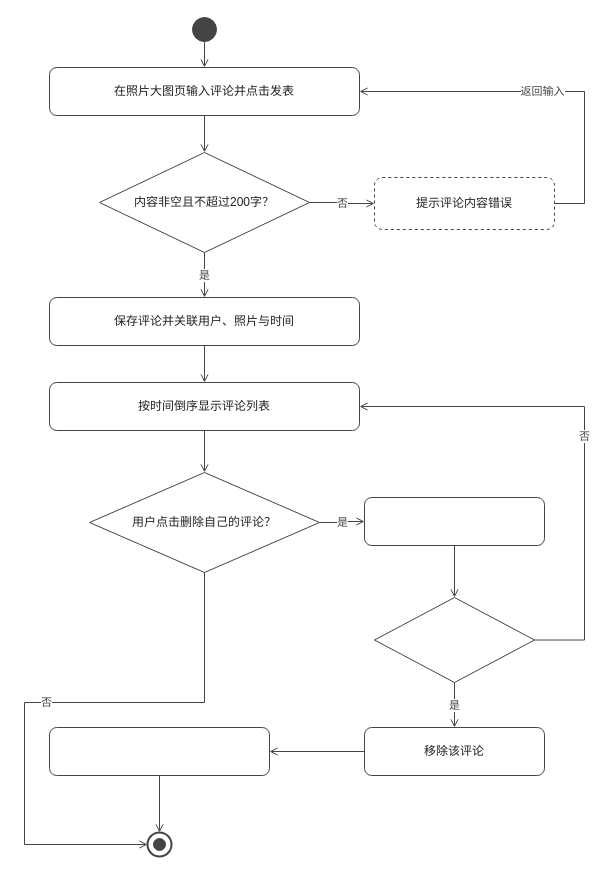
The diagram is 610 pixels wide and 875 high, and some of its shapes have lost their labels. The shapes that lost their labels are listed below. From the top down, each one's box as (x1, y1, x2, y2) in pixels, then its label:
(364, 496, 544, 546): 显示删除确认
(374, 596, 534, 682): 确认删除？
(48, 726, 270, 776): 刷新评论列表
